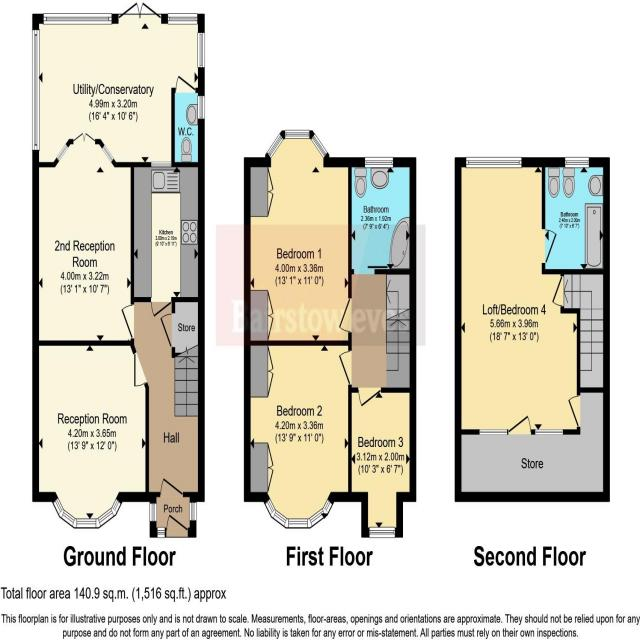DOOR: (540, 228, 558, 266), (159, 312, 176, 349), (337, 296, 353, 334), (337, 349, 353, 386), (357, 386, 382, 409), (133, 351, 148, 388), (507, 414, 532, 436), (120, 303, 135, 339), (160, 477, 184, 498), (150, 296, 172, 318), (567, 394, 581, 428), (551, 275, 565, 308), (175, 74, 196, 94)
DOUBLE DOOR: (117, 1, 162, 24), (72, 132, 96, 144)
ROOM: (454, 157, 581, 436), (243, 128, 352, 347), (31, 340, 150, 531), (32, 131, 134, 346), (242, 340, 353, 531), (130, 162, 205, 320), (347, 386, 417, 538)
WINDOW: (31, 28, 41, 153), (42, 12, 113, 26), (465, 155, 523, 170), (166, 513, 189, 539), (266, 133, 285, 160), (310, 133, 328, 160), (167, 12, 199, 27), (364, 156, 394, 169), (97, 507, 115, 528), (369, 525, 396, 539), (308, 507, 326, 528), (564, 157, 590, 169), (197, 32, 205, 68), (273, 509, 288, 528), (101, 144, 115, 164), (285, 129, 310, 140), (61, 509, 75, 528), (56, 143, 69, 163), (534, 428, 564, 436), (479, 428, 508, 436), (52, 497, 64, 516), (76, 518, 96, 529), (288, 518, 308, 529), (264, 498, 276, 516), (197, 95, 205, 119), (111, 497, 122, 514), (323, 498, 333, 514), (149, 503, 157, 522), (189, 502, 197, 521), (151, 161, 172, 168), (157, 526, 165, 539)
